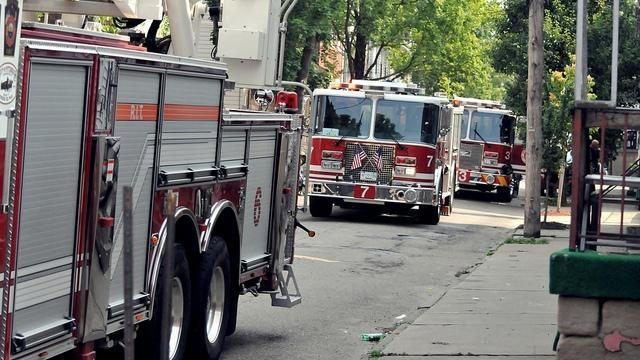truck: (1, 1, 318, 355), (308, 78, 463, 222), (453, 94, 519, 206), (513, 115, 528, 175)
